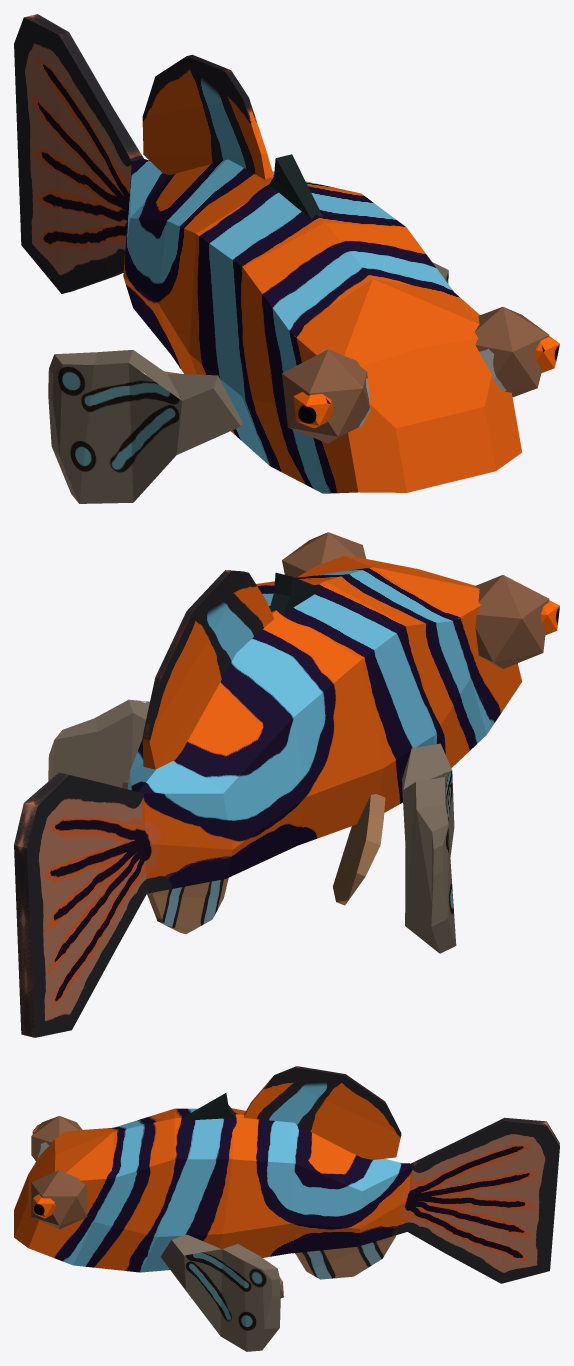
The model's file is Mandarin Fish.glb.
The picture shows the model from 3 angles, top to bottom: view 1: azimuth 30°, elevation 25°; view 2: azimuth 150°, elevation 25°; view 3: azimuth 270°, elevation 25°; orthographic projection. The views are drawn at different scales.
Visible parts, largest first — view 1: Body.002, Main fin, Main top, Eyes.001, Inner eyes, Top fin; view 2: Body.002, Main fin, Main top, Eyes.001, 2nd fins, Bottom fin, Top fin; view 3: Body.002, Main fin, Main top, Eyes.001, Bottom fin, Top fin, Inner eyes.
Boxes of the visible parts, bbox=[...] form: Body.002: bbox=[14, 14, 522, 493]; Main fin: bbox=[48, 262, 448, 503]; Main top: bbox=[142, 54, 273, 179]; Eyes.001: bbox=[282, 307, 549, 443]; Inner eyes: bbox=[293, 336, 559, 428]; Top fin: bbox=[269, 154, 322, 218]; Body.002: bbox=[14, 555, 521, 1037]; Main fin: bbox=[48, 699, 456, 953]; Main top: bbox=[142, 570, 274, 769]; Eyes.001: bbox=[282, 532, 549, 668]; 2nd fins: bbox=[122, 779, 385, 905]; Bottom fin: bbox=[147, 877, 228, 933]; Top fin: bbox=[270, 572, 322, 614]; Body.002: bbox=[14, 1108, 559, 1283]; Main fin: bbox=[160, 1234, 280, 1351]; Main top: bbox=[243, 1066, 401, 1159]; Eyes.001: bbox=[31, 1116, 87, 1229]; Bottom fin: bbox=[295, 1235, 395, 1279]; Top fin: bbox=[184, 1093, 236, 1120]; Inner eyes: bbox=[32, 1124, 55, 1218].
Size of the model in its own units: 1.43 by 1.26 by 2.74.
Materials: 8 (8 with a texture image).
